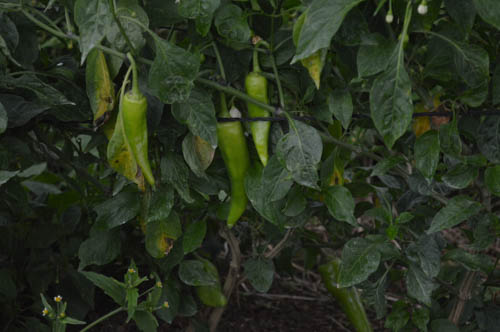ChiliPepper: (215, 116, 249, 224), (320, 260, 367, 326), (123, 96, 158, 182), (240, 75, 268, 156)
